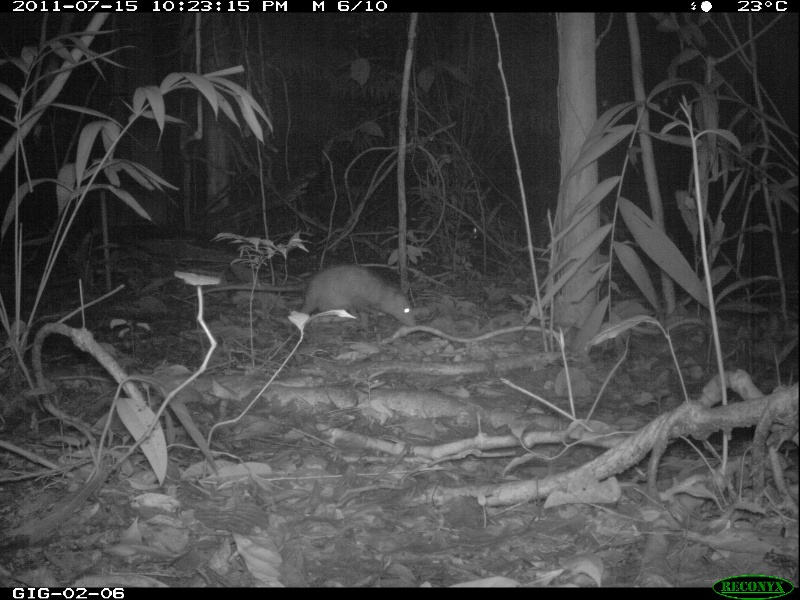opossum: (199, 266, 422, 330)
